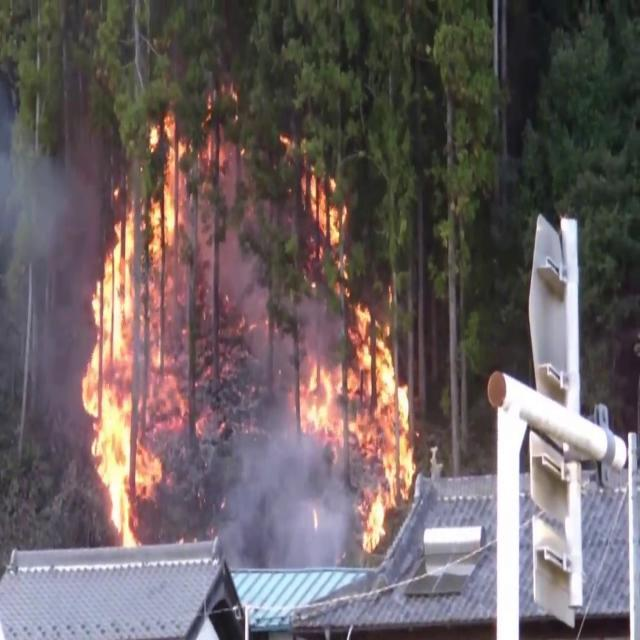Fire: (74, 111, 204, 544), (291, 173, 420, 550)
Smoke: (212, 382, 356, 566), (0, 66, 94, 296)
